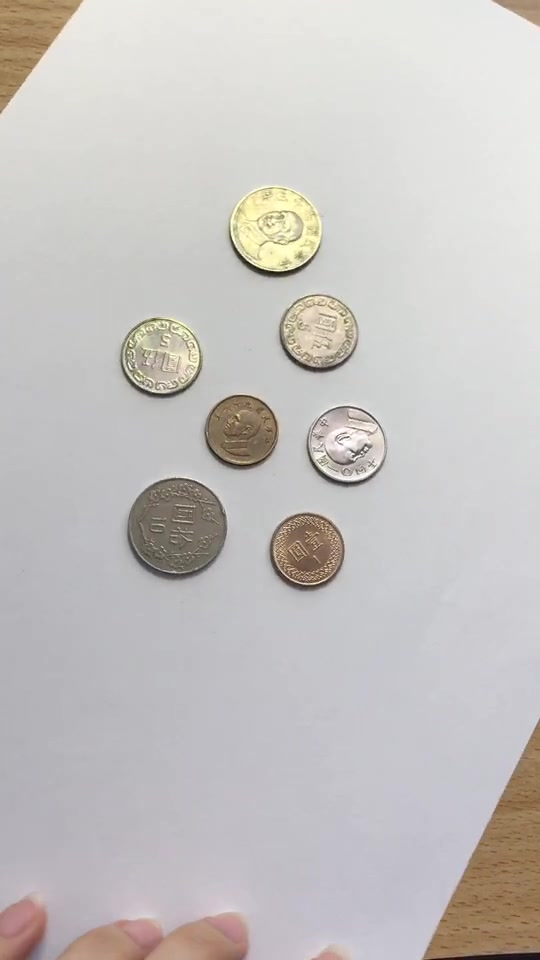1 dallar: (202, 380, 283, 475), (267, 504, 348, 599)
10 dallar: (115, 466, 233, 585), (215, 169, 333, 288)
5 dallar: (112, 306, 205, 400), (267, 284, 360, 378), (300, 398, 393, 492)
